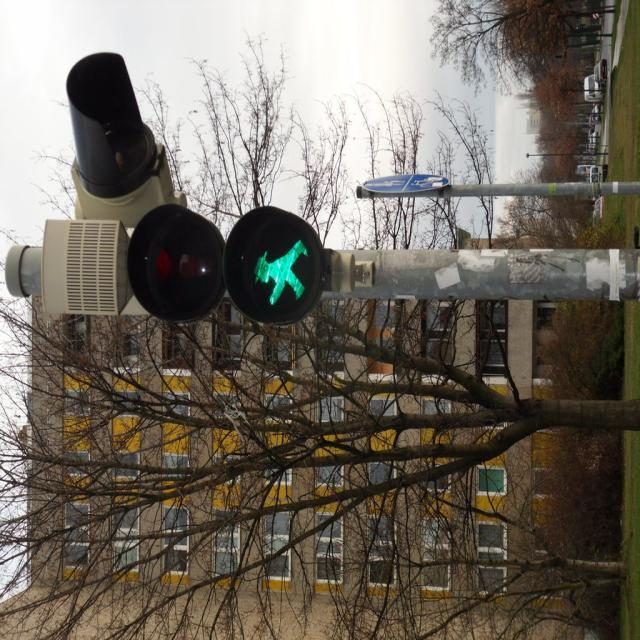traffic light: (132, 209, 321, 326)
